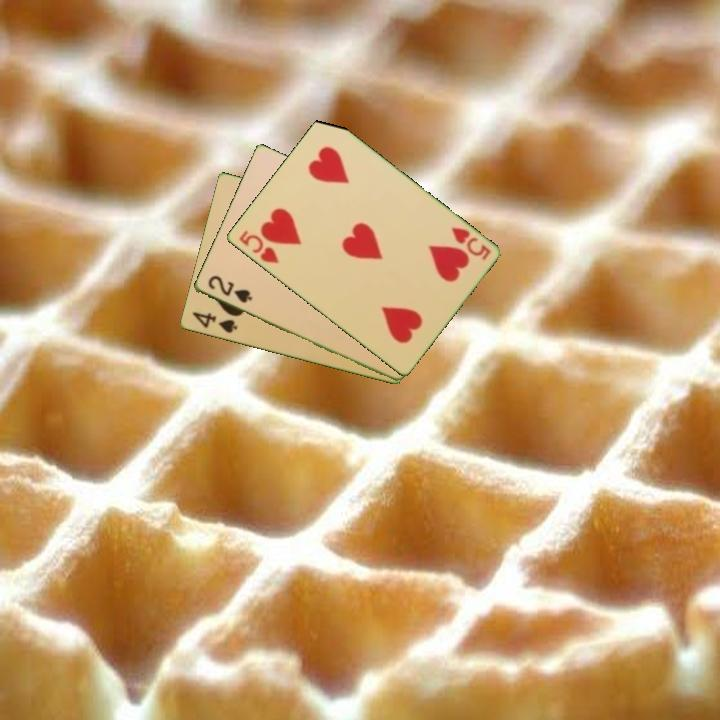2s: (204, 272, 255, 306)
4s: (189, 309, 240, 336)
5h: (235, 227, 282, 266), (448, 224, 493, 263)
